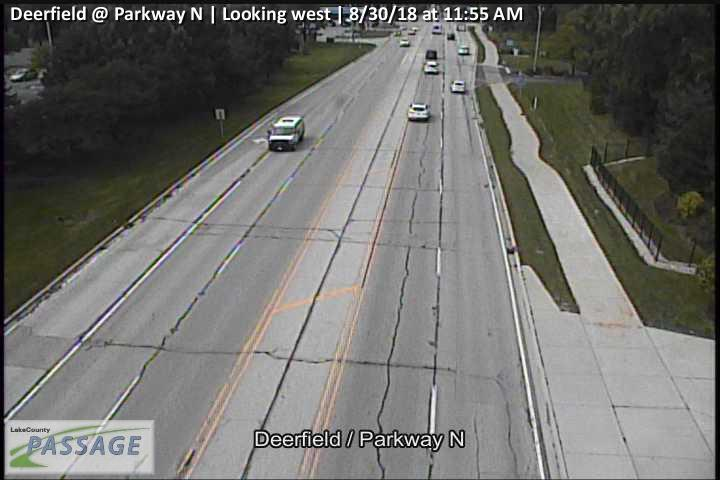SUV: (269, 116, 306, 151), (407, 103, 430, 122)
Sedan: (424, 60, 437, 73), (452, 80, 464, 92), (459, 46, 470, 54), (431, 24, 441, 32), (399, 37, 408, 45), (426, 50, 435, 58), (447, 32, 455, 39), (408, 29, 415, 34)
